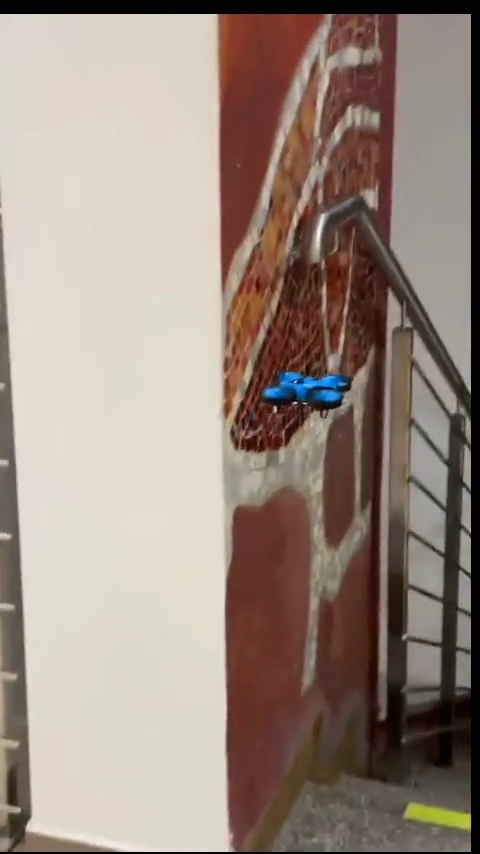drone: (265, 369, 354, 420)
